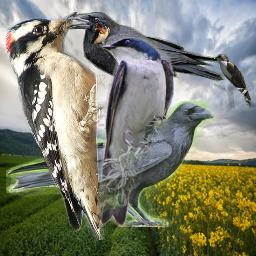Crow: (6, 101, 216, 227), (67, 12, 225, 129)
Cuckoo: (214, 54, 255, 109)
Swallow: (93, 35, 176, 227), (91, 21, 110, 44)
Woodpecker: (4, 12, 106, 240)
